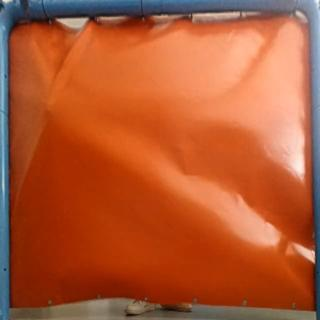Hit-hRxx: (38, 99, 56, 114)
